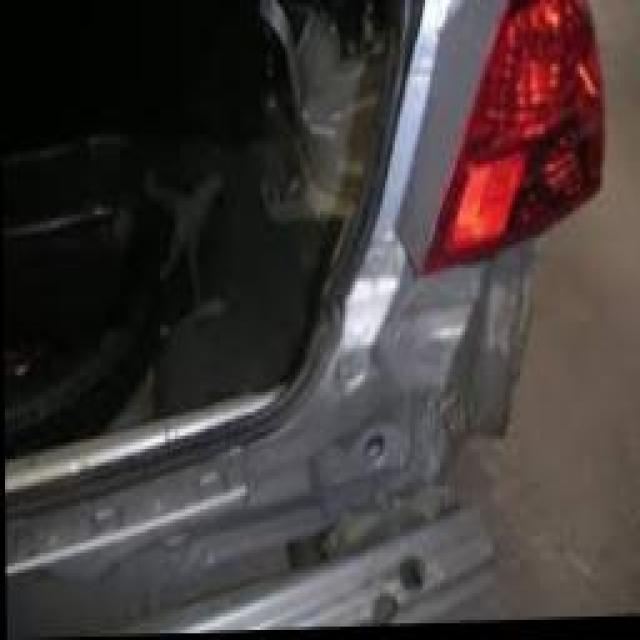Bumper: (5, 436, 556, 583), (432, 261, 564, 450)
Dickey: (2, 0, 444, 447)
